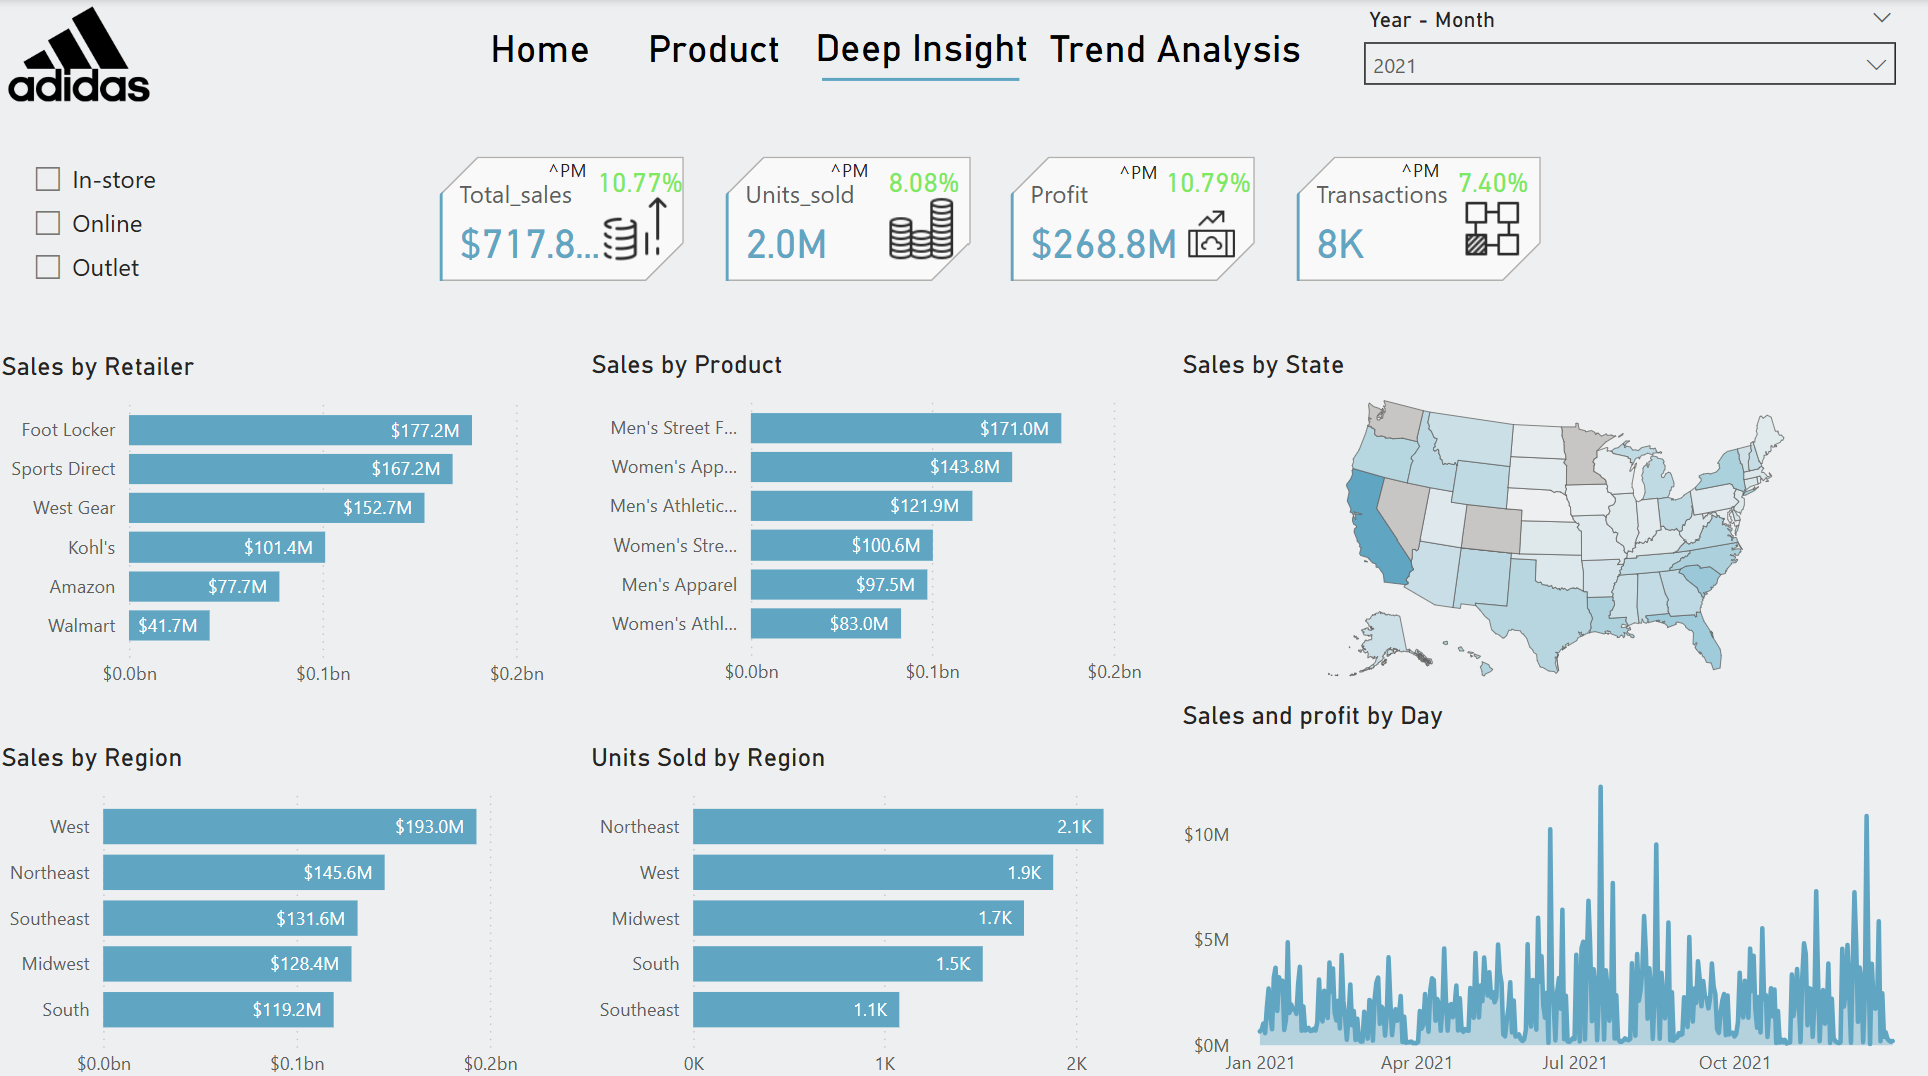

Layout of this report page (visuals, bound fields, positions):
{"tool":"powerbi","page":{"name":"Deep Insight","canvas":[1280,720],"ordinal":2},"visuals":[{"type":"image","box":[0,0,112,72.5],"z":0},{"type":"barChart","title":"Sales by Retailer","fields":{"Y":["Data Sales Adidas.Total_sales"],"Category":["Data Sales Adidas.Retailer"]},"box":[0,231.7,388.9,230.1],"z":1000},{"type":"slicer","fields":{"Values":["Data Sales Adidas.Sales Method"]},"box":[14.5,98.9,162.1,116],"z":2000},{"type":"slicer","fields":{"Values":["Calendar.YEAR","Calendar.Month"]},"box":[892.4,0,370.4,98.9],"z":3000},{"type":"shape","box":[545.5,40.4,129.4,24.3],"z":4000},{"type":"cardVisual","fields":{"Data":["Data Sales Adidas.Total_sales"]},"box":[288.7,98.9,171.4,92.3],"z":5000},{"type":"cardVisual","fields":{"Data":["Data Sales Adidas.Units_sold"]},"box":[476.8,98.9,171.4,92.3],"z":6000},{"type":"cardVisual","fields":{"Data":["Data Sales Adidas.Profit"]},"box":[664.8,98.9,171.4,92.3],"z":7000},{"type":"cardVisual","fields":{"Data":["Data Sales Adidas.Trans_Count"]},"box":[852.5,97.5,171.2,92.5],"z":8000},{"type":"barChart","title":"Sales by Region","fields":{"Y":["Data Sales Adidas.Total_sales"],"Category":["Location.Region"]},"box":[0,489.3,388.9,230.1],"z":9000},{"type":"barChart","title":"Sales by Product","fields":{"Y":["Data Sales Adidas.Total_sales"],"Category":["Data Sales Adidas.Product"]},"box":[388.3,231.1,388.3,230],"z":10000},{"type":"barChart","title":"Units Sold by Region","fields":{"Y":["Data Sales Adidas.Transactions"],"Category":["Location.Region"]},"box":[388.3,490,388.3,230],"z":11000},{"type":"shapeMap","title":"Sales by State","fields":{"Category":["Location.State"],"Value":["Data Sales Adidas.Total_sales"]},"box":[777.8,231.1,502.7,230],"z":12000},{"type":"areaChart","title":"Sales and profit by Day","fields":{"Y":["Data Sales Adidas.Total_sales"],"Category":["Calendar.Date.Variation.Date Hierarchy.Year","Calendar.Date.Variation.Date Hierarchy.Quarter","Calendar.Date.Variation.Date Hierarchy.Month","Calendar.Date.Variation.Date Hierarchy.Day"]},"box":[778.3,490,502,230],"z":13000},{"type":"card","fields":{"Values":["Data Sales Adidas.SalesMOM"]},"box":[382,96.2,74,48],"z":14000},{"type":"card","fields":{"Values":["Data Sales Adidas.UnitssoldMOM"]},"box":[569,96.2,73.8,47.5],"z":15000},{"type":"card","fields":{"Values":["Data Sales Adidas.ProfitMOM"]},"box":[755.8,96.2,81.2,45],"z":16000},{"type":"card","fields":{"Values":["Data Sales Adidas.TransactionMOM"]},"box":[940.7,93.6,74,47.4],"z":17000},{"type":"textbox","box":[726.2,98.8,57.5,32.5],"z":18000},{"type":"textbox","box":[537.5,97.5,56.2,32.5],"z":19000},{"type":"textbox","box":[353.8,97.5,56.2,32.5],"z":20000},{"type":"textbox","box":[911.8,98.2,56.6,32.4],"z":21000},{"type":"actionButton","box":[309.5,11.3,100.5,40.5],"z":22000},{"type":"actionButton","box":[424.5,11.3,100.5,40.5],"z":23000},{"type":"actionButton","box":[525,13,173.4,35.6],"z":24000},{"type":"actionButton","box":[682.1,13,192.8,38.9],"z":25000}]}

Visuals, with their boxes in screenshot pixels (x1, y1, x2, y2), scaled from the page's 1280x720 canvas onto the 1928x1076 screenshot:
image: bbox=[0, 0, 169, 108]
"Sales by Retailer" barChart: bbox=[0, 346, 586, 690]
slicer - Data Sales Adidas.Sales Method: bbox=[22, 148, 266, 321]
slicer - Calendar.YEAR x Calendar.Month: bbox=[1344, 0, 1902, 148]
shape: bbox=[822, 60, 1017, 97]
cardVisual - Data Sales Adidas.Total_sales: bbox=[435, 148, 693, 286]
cardVisual - Data Sales Adidas.Units_sold: bbox=[718, 148, 976, 286]
cardVisual - Data Sales Adidas.Profit: bbox=[1001, 148, 1260, 286]
cardVisual - Data Sales Adidas.Trans_Count: bbox=[1284, 146, 1542, 284]
"Sales by Region" barChart: bbox=[0, 731, 586, 1075]
"Sales by Product" barChart: bbox=[585, 345, 1170, 689]
"Units Sold by Region" barChart: bbox=[585, 732, 1170, 1075]
"Sales by State" shapeMap: bbox=[1172, 345, 1927, 689]
"Sales and profit by Day" areaChart: bbox=[1172, 732, 1927, 1075]
card - Data Sales Adidas.SalesMOM: bbox=[575, 144, 687, 215]
card - Data Sales Adidas.UnitssoldMOM: bbox=[857, 144, 968, 215]
card - Data Sales Adidas.ProfitMOM: bbox=[1138, 144, 1261, 211]
card - Data Sales Adidas.TransactionMOM: bbox=[1417, 140, 1528, 211]
textbox: bbox=[1094, 148, 1180, 196]
textbox: bbox=[810, 146, 894, 194]
textbox: bbox=[533, 146, 618, 194]
textbox: bbox=[1373, 147, 1459, 195]
actionButton: bbox=[466, 17, 618, 77]
actionButton: bbox=[639, 17, 791, 77]
actionButton: bbox=[791, 19, 1052, 73]
actionButton: bbox=[1027, 19, 1318, 78]
